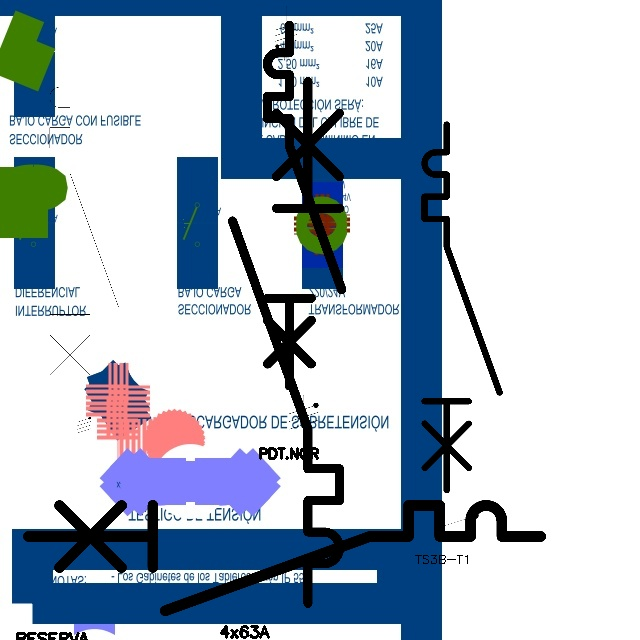interruptor_termomagnetico: (219, 68, 353, 617), (15, 492, 554, 624), (415, 115, 509, 499), (258, 16, 351, 395), (41, 53, 127, 404)
